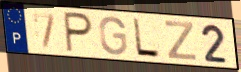2: (198, 21, 231, 65)
7: (32, 12, 57, 49)
G: (98, 14, 129, 56)
L: (131, 16, 162, 59)
P: (62, 10, 95, 55)
Z: (164, 20, 198, 62)
